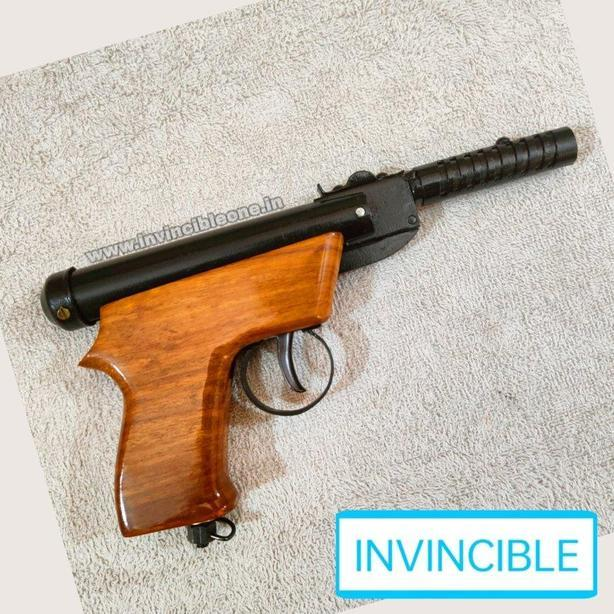Firearm: (38, 117, 597, 551)
